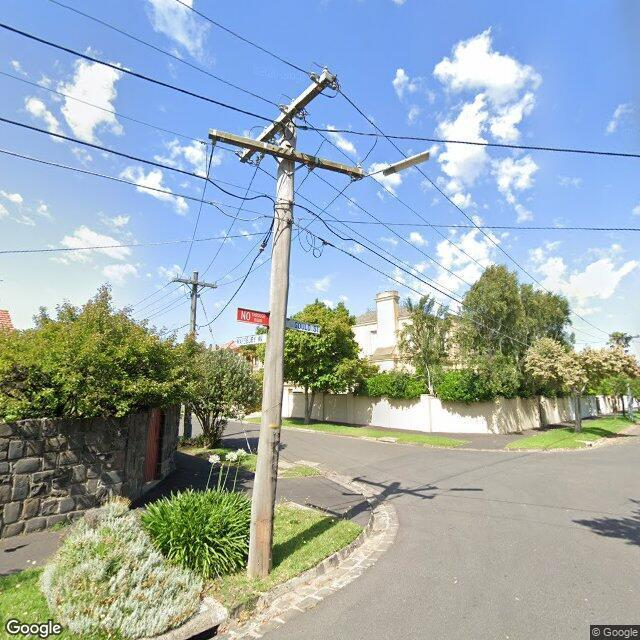crossarm: (208, 128, 363, 192), (235, 71, 339, 164), (170, 276, 217, 290)
streetlight: (364, 150, 431, 178)
timber-pole: (247, 107, 296, 579), (183, 271, 199, 438)
